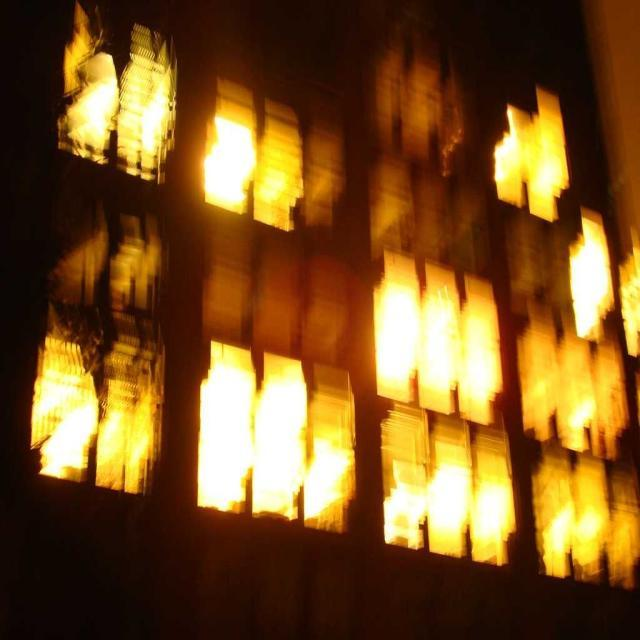Fire: (190, 364, 360, 524), (371, 404, 520, 566), (377, 254, 505, 418), (34, 336, 160, 489), (74, 23, 164, 178), (521, 328, 622, 454), (216, 100, 296, 218), (507, 112, 575, 212), (567, 237, 608, 326)
